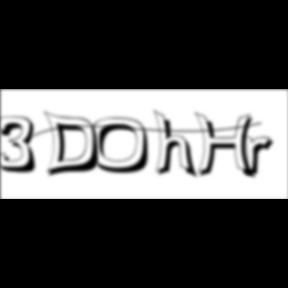3: (1, 116, 44, 176)
D: (44, 110, 106, 180)
H: (195, 112, 261, 182)
O: (92, 117, 156, 176)
h: (154, 108, 200, 182)
r: (242, 134, 280, 180)
